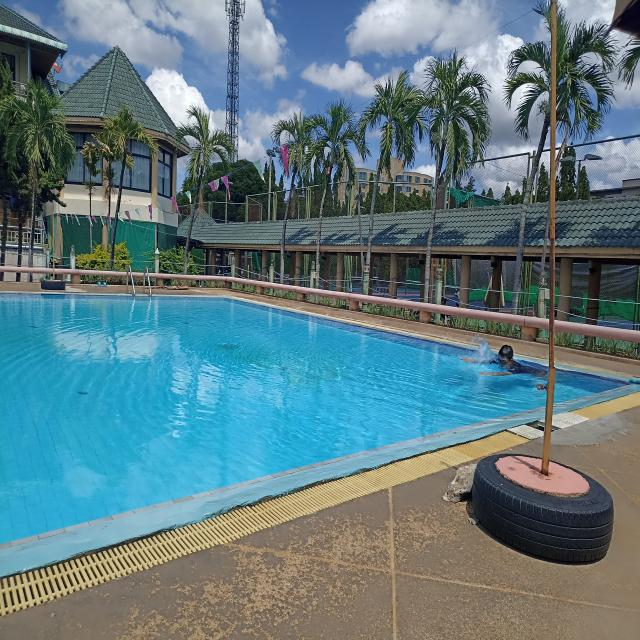Swimming: (462, 334, 544, 392)
